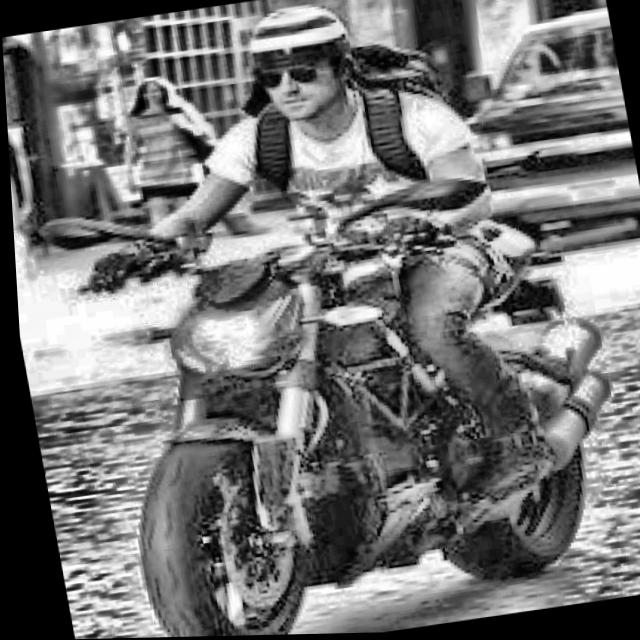motorcycle: (32, 132, 640, 640)
